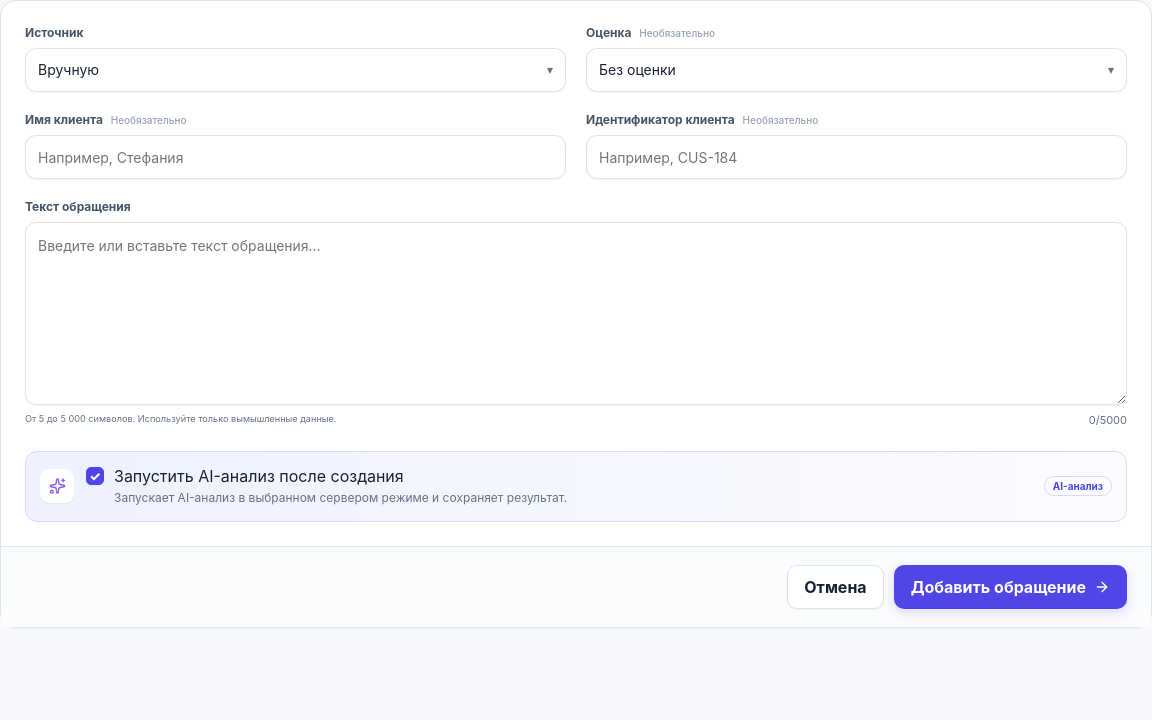
it: CreateFeedbackForm › explains backend plain-text validation failures in Russian
The image size is (1152, 720).
Type "<script>alert(1)</script>" into the text box labelled "Текст обращения" at (576, 313), box [25,222,1127,405]
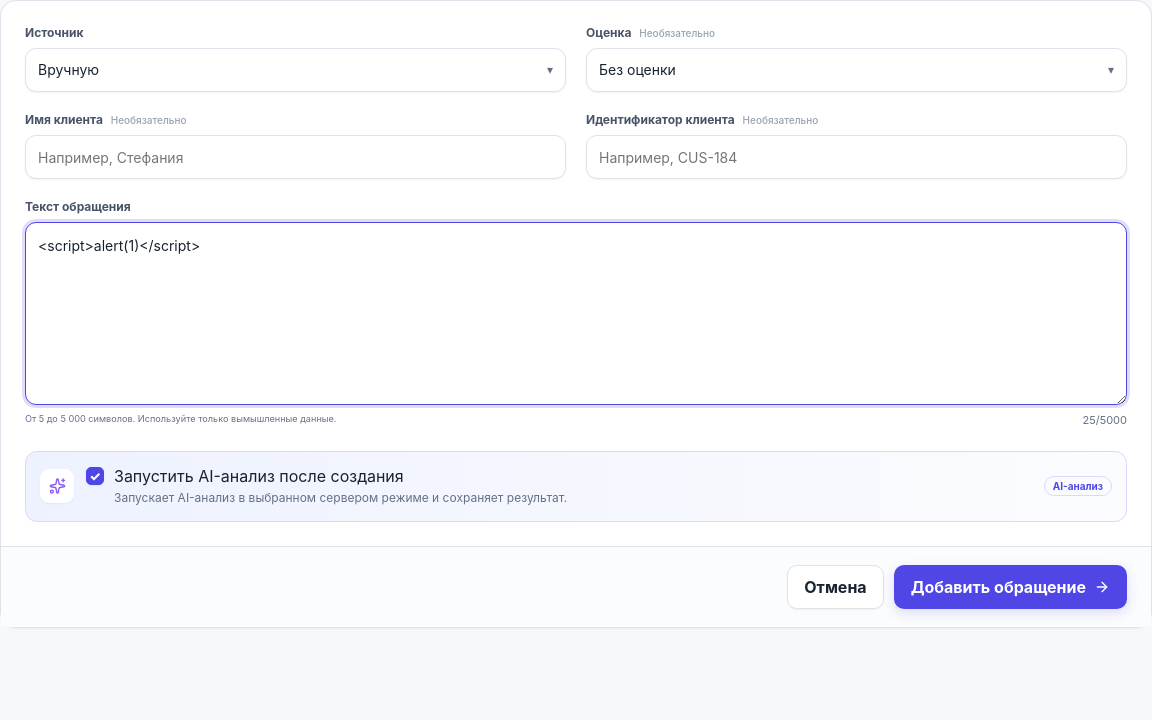
Click the button "Добавить обращение" at (1010, 587), box [894,565,1127,609]
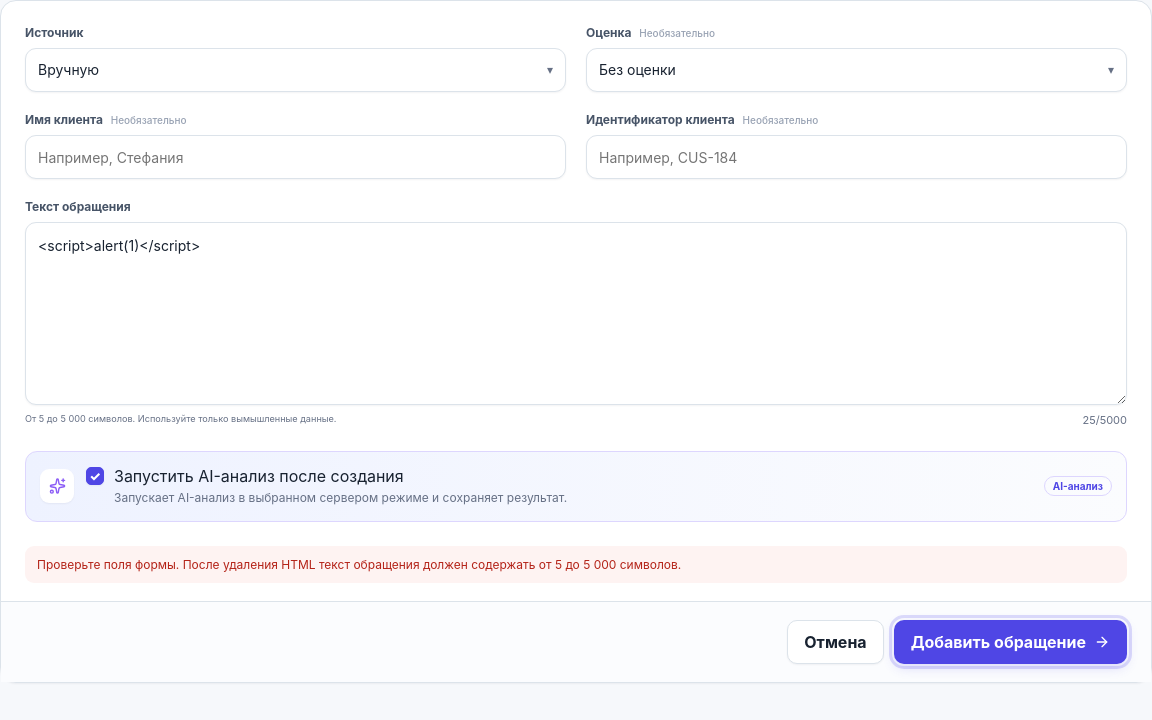
Expected: the message shows "После удаления HTML текст обращения должен содержать от 5 до 5 000 символов.", [37,557,681,572]
